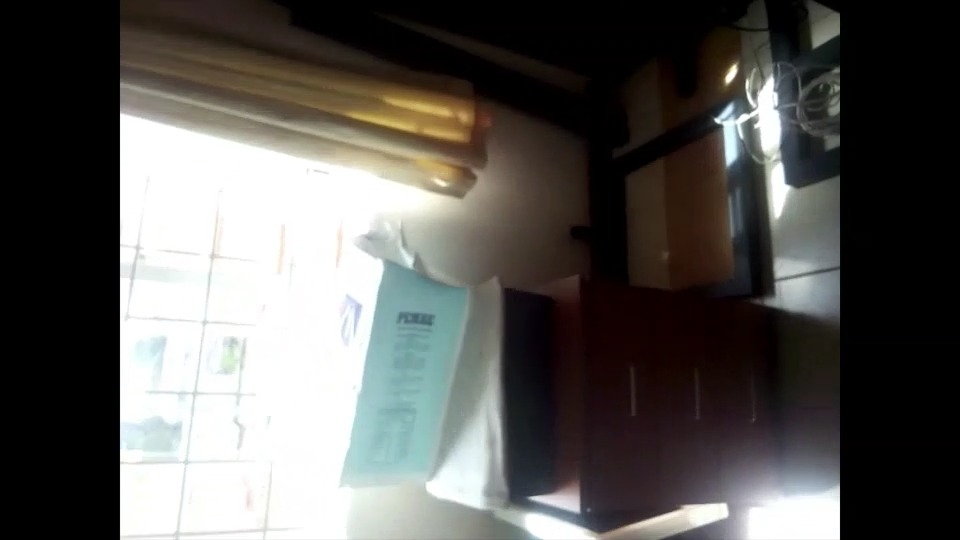wheat_flour_blue_label: (318, 236, 469, 481)
